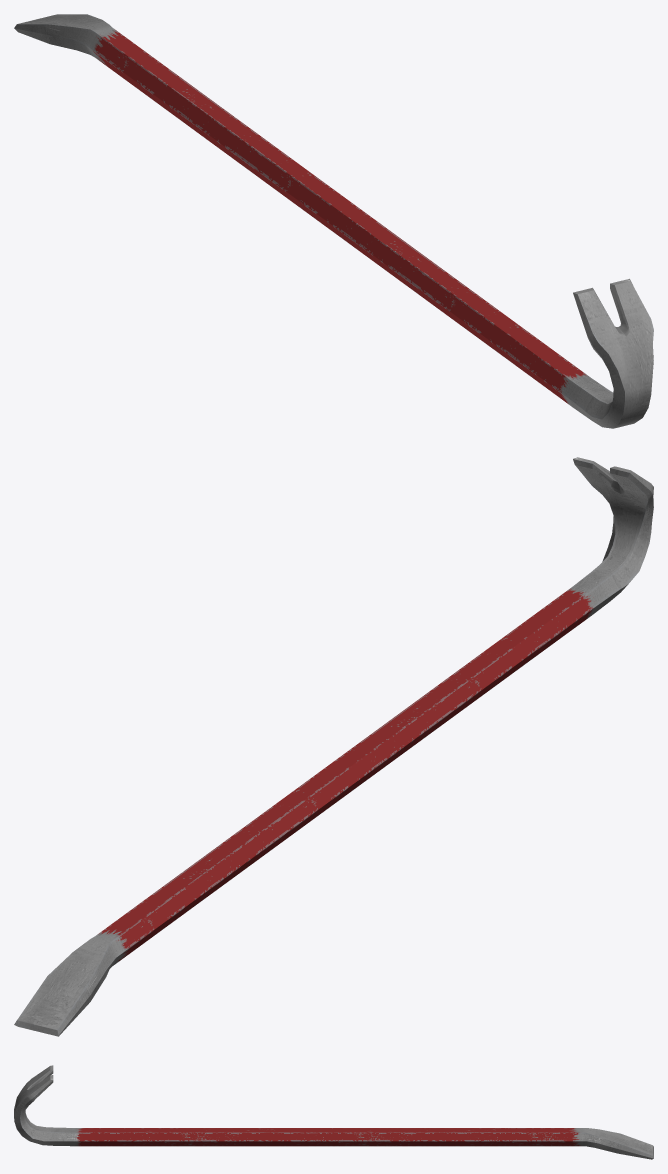
The model's file is SM_Crowbar36_lod0.fbx.
3 renders of one model, top to bottom at view 1: azimuth 30°, elevation 25°; view 2: azimuth 150°, elevation 25°; view 3: azimuth 270°, elevation 25°, orthographic. The views are drawn at different scales.
Parts seen in each view (by area): view 1: SM_Crowbar36_lod0; view 2: SM_Crowbar36_lod0; view 3: SM_Crowbar36_lod0.
Boxes of the visible parts, left/top/right/bottom form: SM_Crowbar36_lod0: left=14, top=14, right=653, bottom=428; SM_Crowbar36_lod0: left=14, top=457, right=653, bottom=1036; SM_Crowbar36_lod0: left=14, top=1065, right=653, bottom=1159.
Size of the model in its own units: 5.32 by 12.53 by 88.95.
